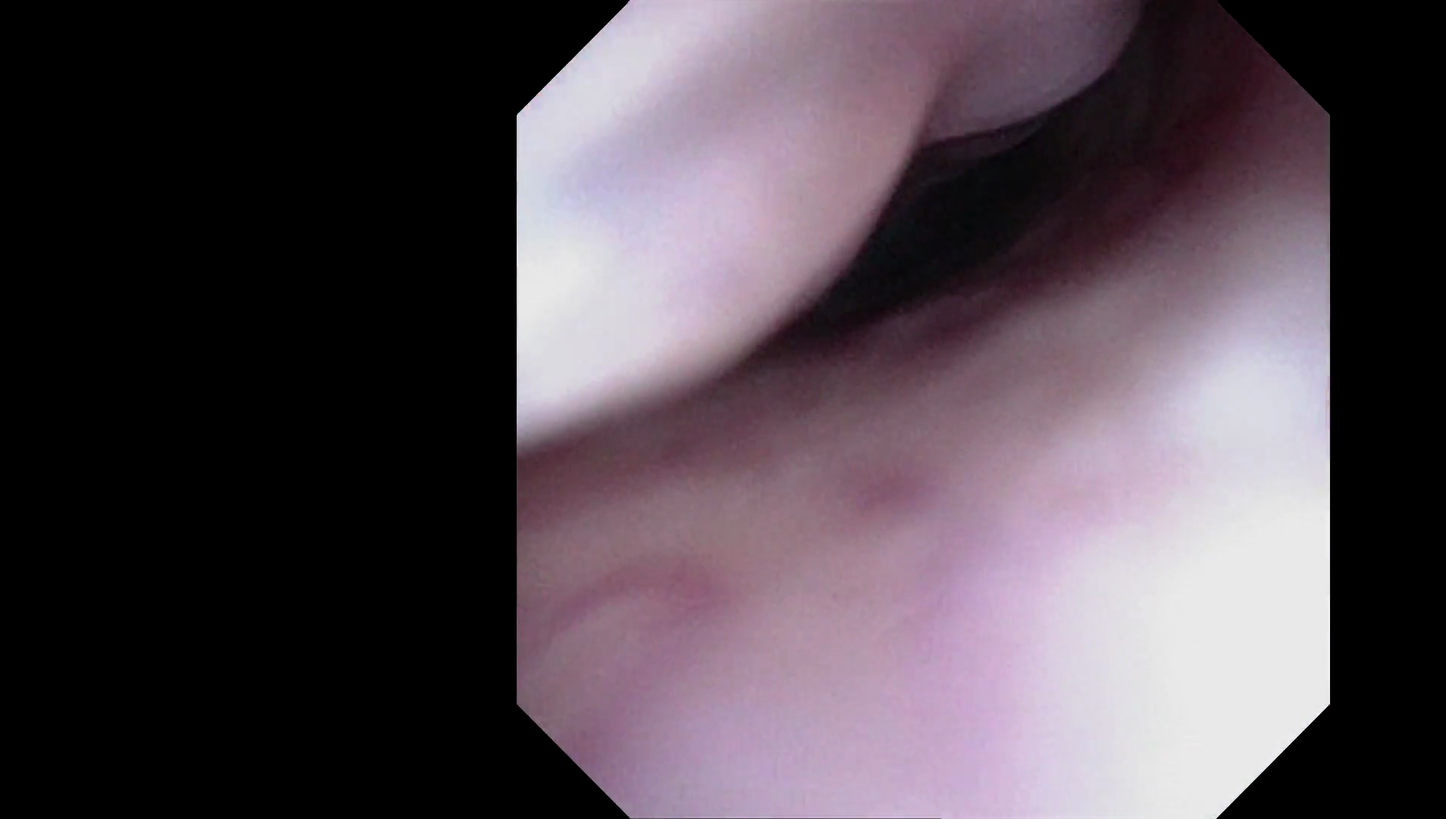close_wall: (898, 375, 1282, 735), (533, 43, 865, 376)
next: (749, 66, 1135, 410)
